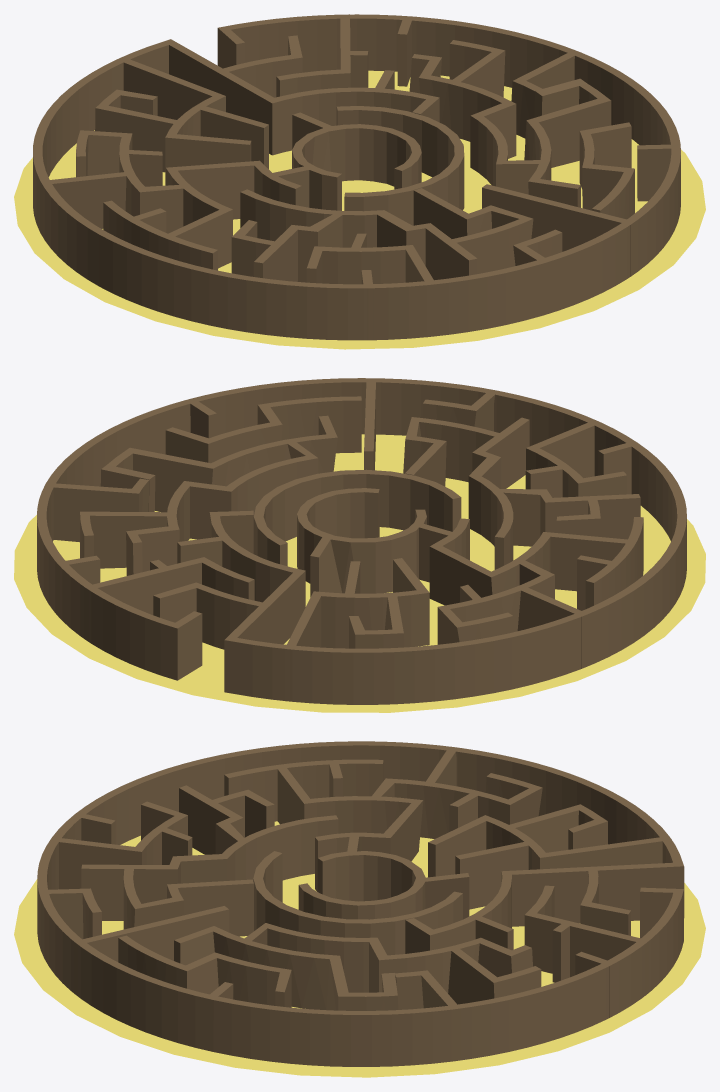
Rendered from laberinto.glb.
3 renders of one model, top to bottom at view 1: azimuth 30°, elevation 25°; view 2: azimuth 150°, elevation 25°; view 3: azimuth 270°, elevation 25°, orthographic.
Visible parts, largest first — view 1: Walls, FloorLaberinto; view 2: Walls, FloorLaberinto; view 3: Walls, FloorLaberinto.
Part boxes in pixels (bbox=[...]): Walls: bbox=[33, 14, 680, 340]; FloorLaberinto: bbox=[14, 70, 705, 349]; Walls: bbox=[37, 378, 686, 704]; FloorLaberinto: bbox=[14, 434, 705, 712]; Walls: bbox=[37, 741, 684, 1066]; FloorLaberinto: bbox=[14, 821, 705, 1077].
Size of the model in its own units: 174 by 14.59 by 174.
